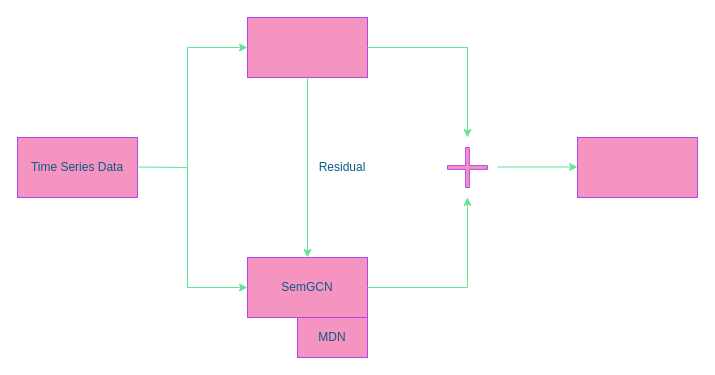
This 715x375 diagram has some shape labels left out. The shapes that lost their labels are listed below. From the top down, each one's centre as x and y in pixels, then its label:
(307,47): Linear Regression
(637,167): Final Forecast
